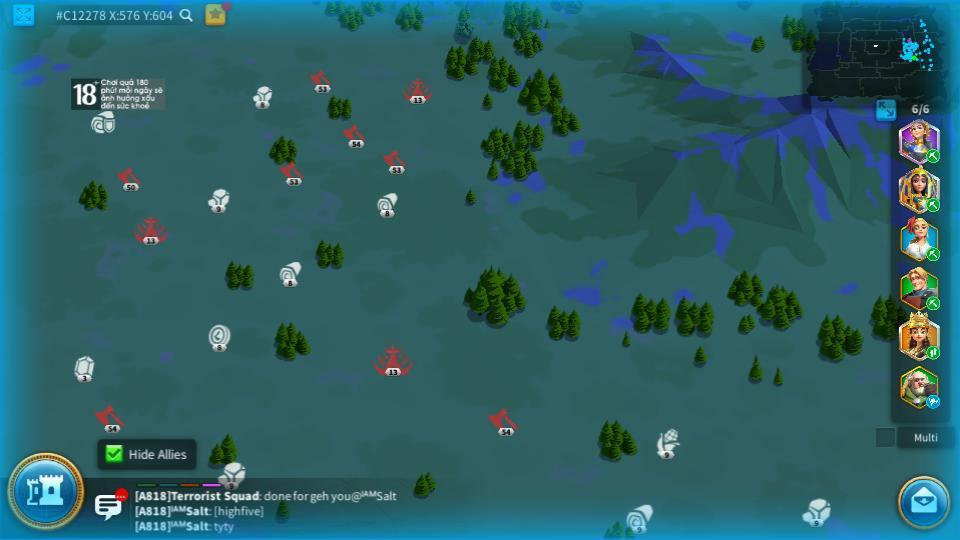gem-z-out: (72, 355, 96, 381)
march_farming: (924, 197, 939, 212), (925, 297, 941, 308), (926, 248, 940, 260)
march_idle: (925, 396, 942, 408)
march_marching: (925, 148, 941, 161), (925, 347, 941, 359)
